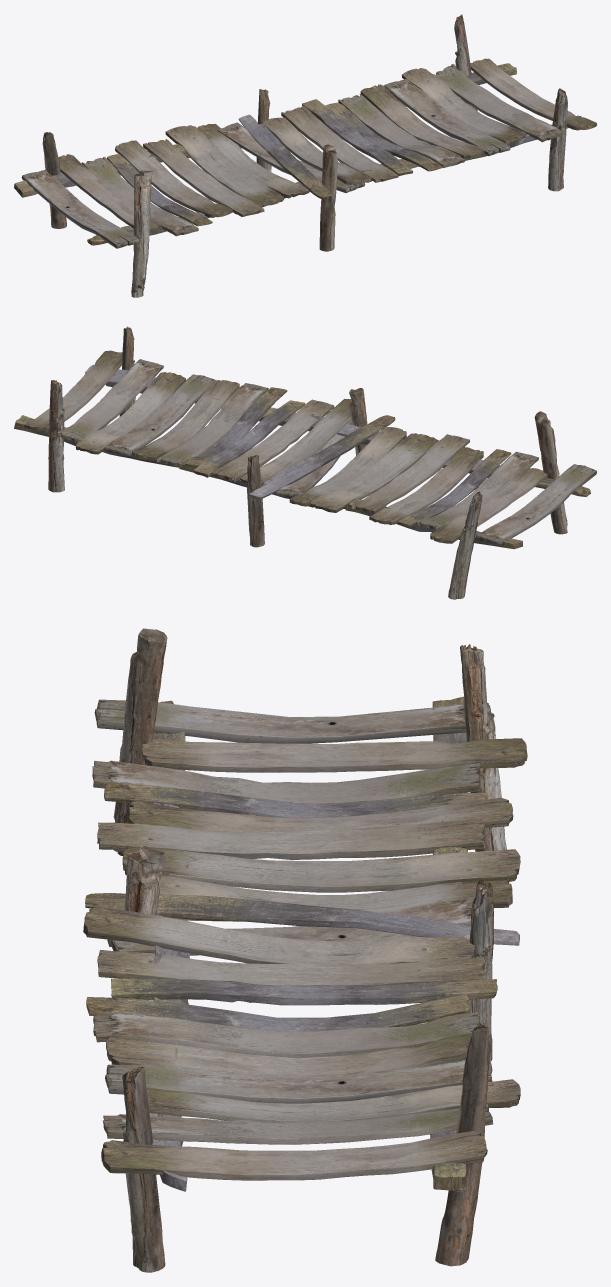
Rendered from SM_WoodPlank_01_18_bridge.fbx.
3 views of the same model, one above another, from view 1: azimuth 30°, elevation 25°; view 2: azimuth 150°, elevation 25°; view 3: azimuth 270°, elevation 25° (orthographic). The views are drawn at different scales.
Parts seen in each view (by area): view 1: sm_WoodPlank_01_18_bridge_LOD0; view 2: sm_WoodPlank_01_18_bridge_LOD0; view 3: sm_WoodPlank_01_18_bridge_LOD0.
Part boxes in pixels (x1,y1,x2,y2): sm_WoodPlank_01_18_bridge_LOD0: (14, 14, 596, 297); sm_WoodPlank_01_18_bridge_LOD0: (14, 326, 596, 599); sm_WoodPlank_01_18_bridge_LOD0: (83, 628, 527, 1272).
Bounding box in the file's own units: 172 × 443 × 100.
